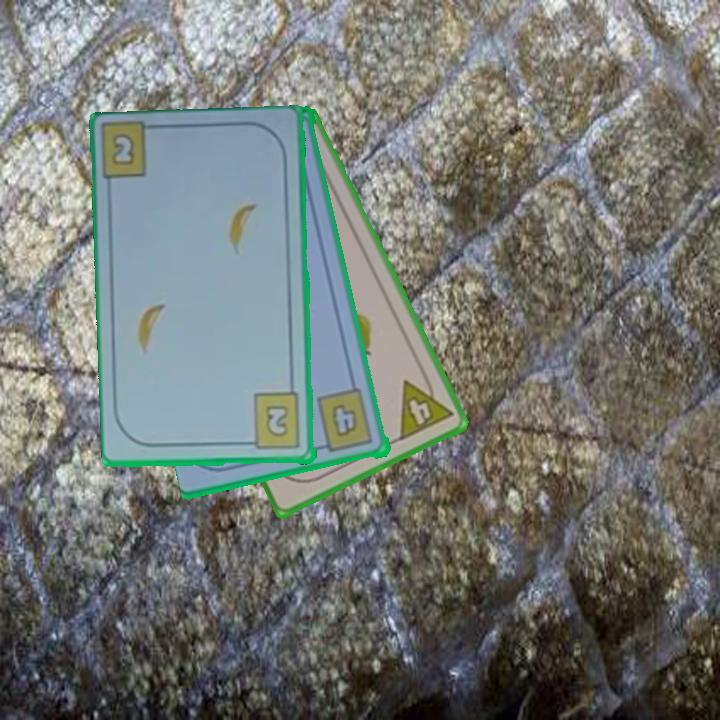2b: (242, 390, 303, 453), (108, 129, 138, 169)
4b: (313, 386, 377, 456)
4p: (395, 368, 456, 444)
